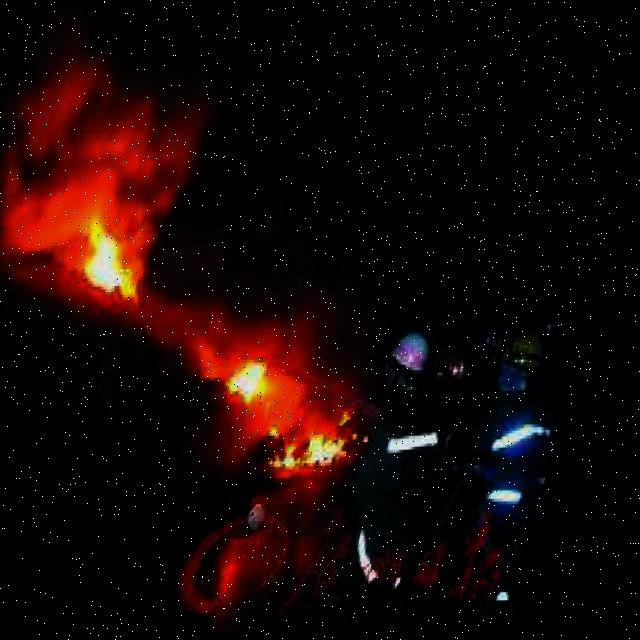Fire: (74, 204, 173, 308), (286, 402, 382, 472), (220, 338, 298, 410)
